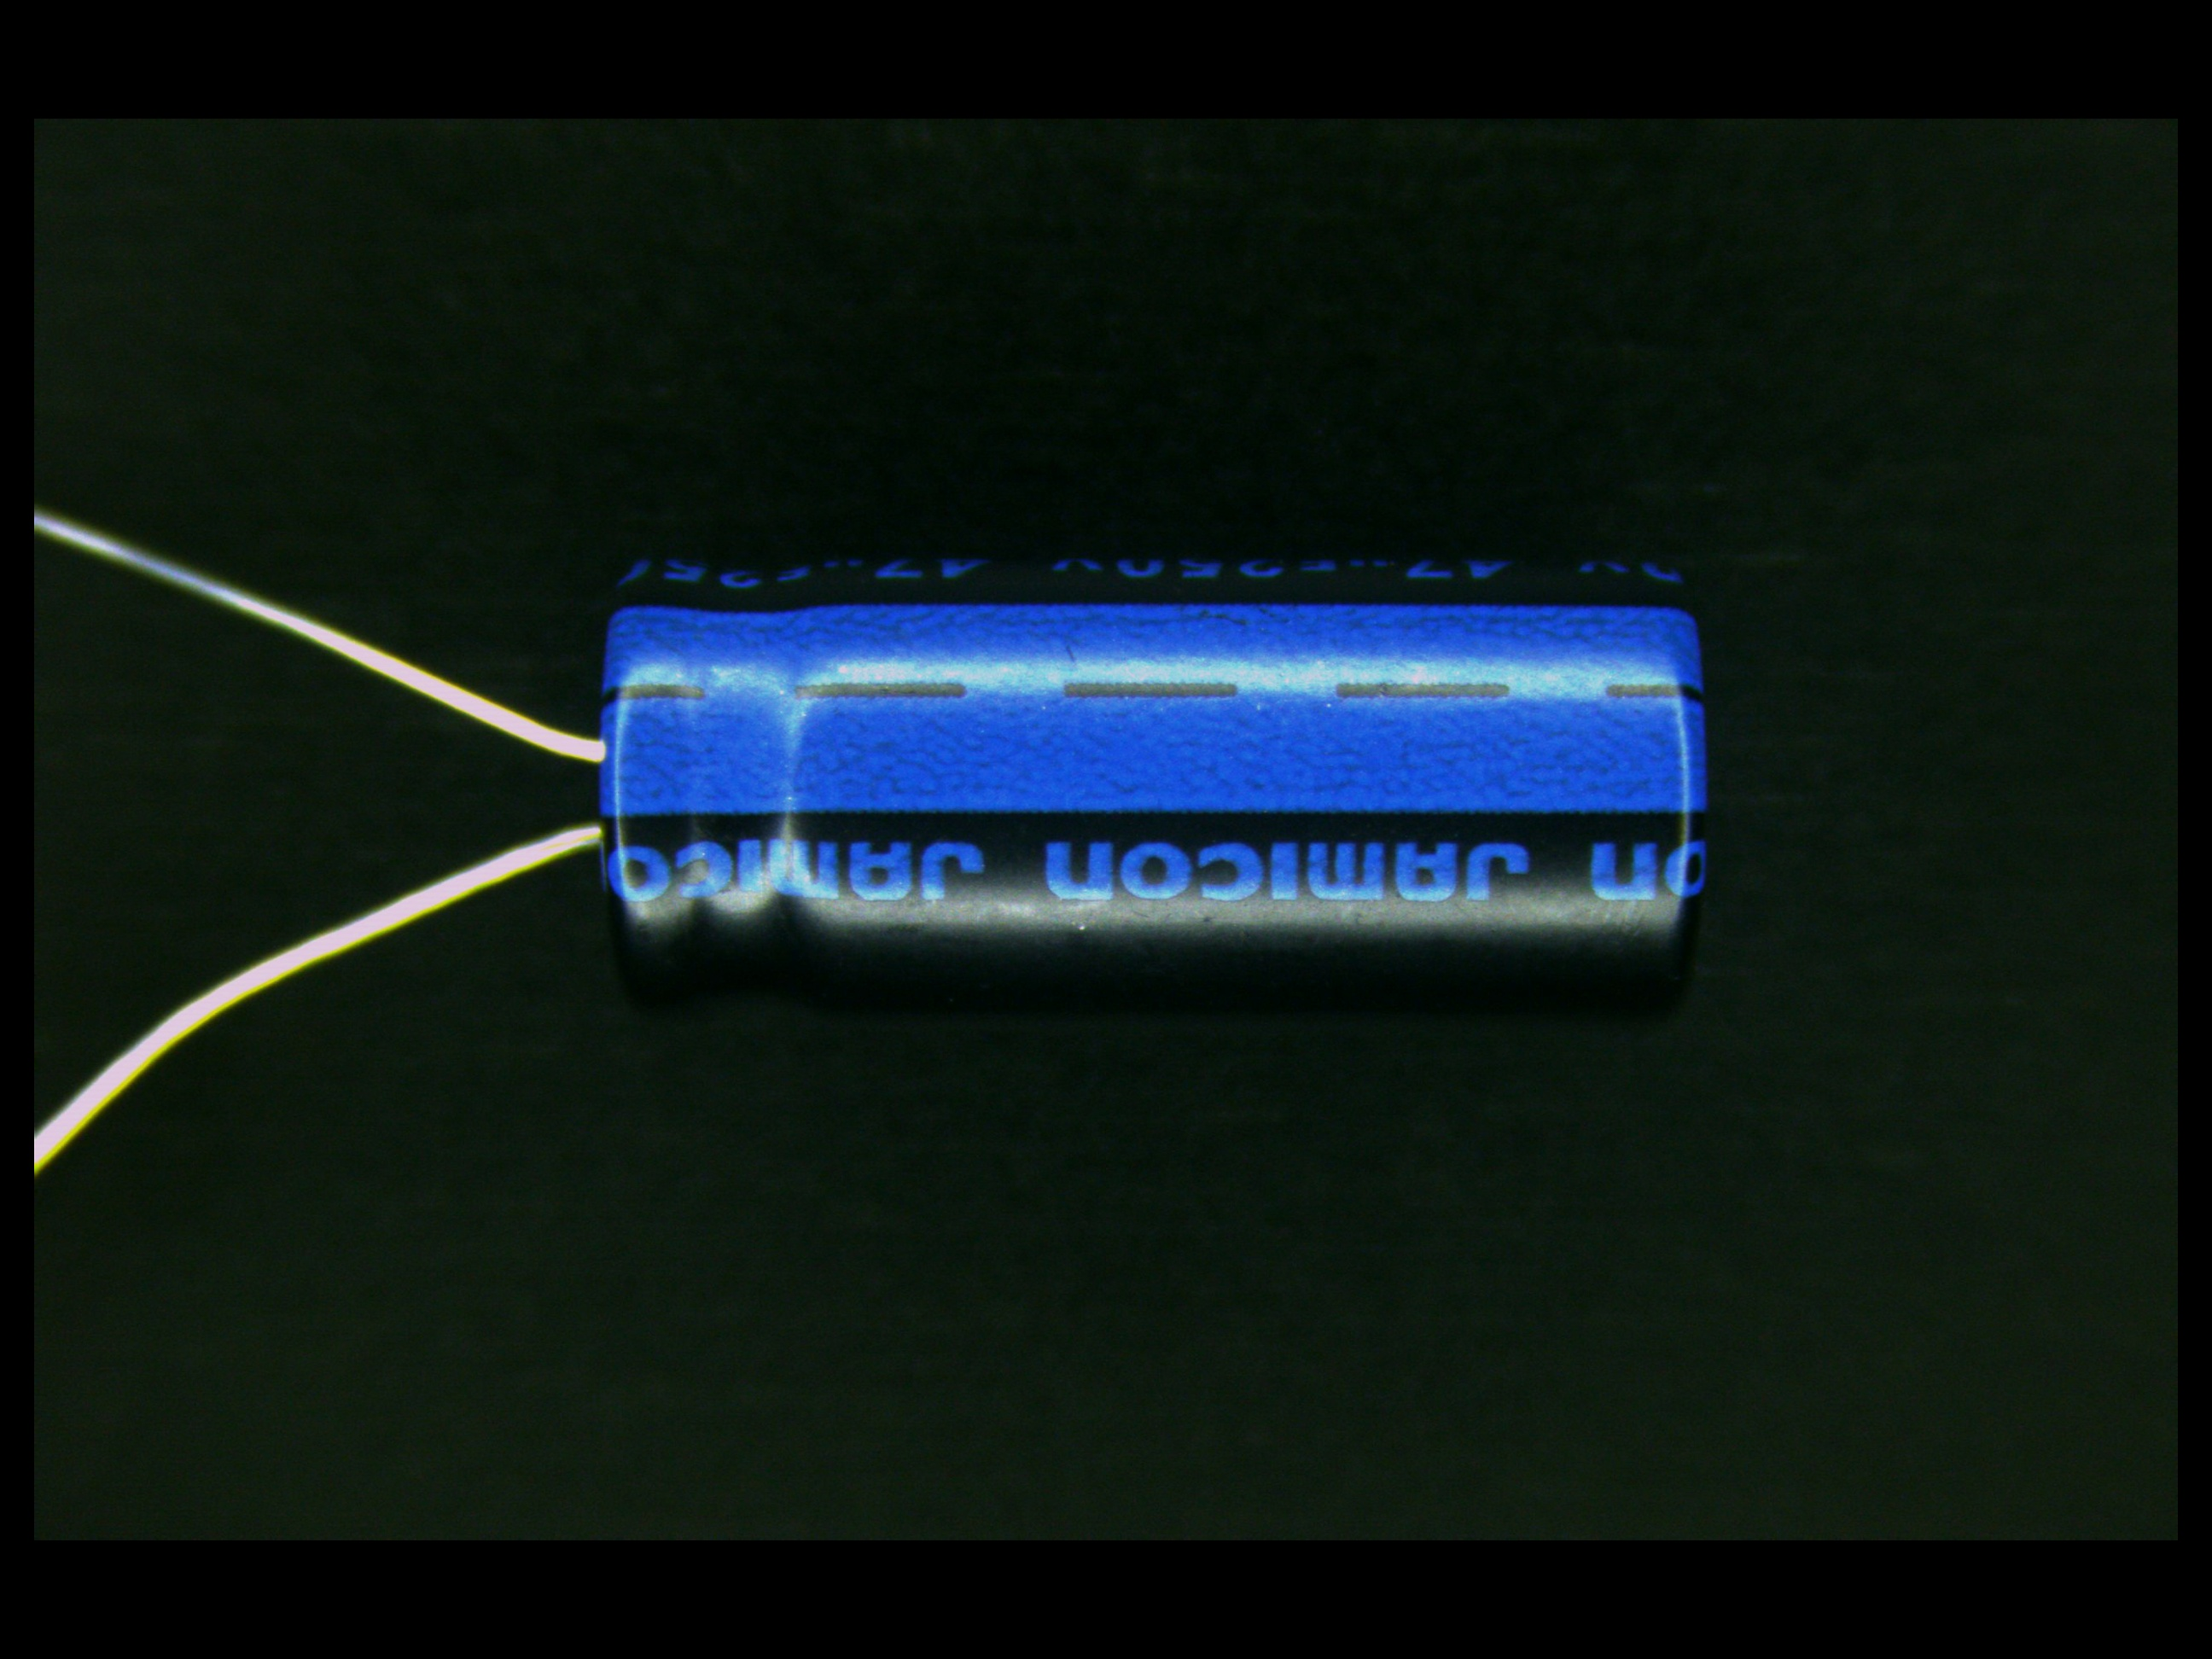c2: (394, 544, 1714, 1012)
